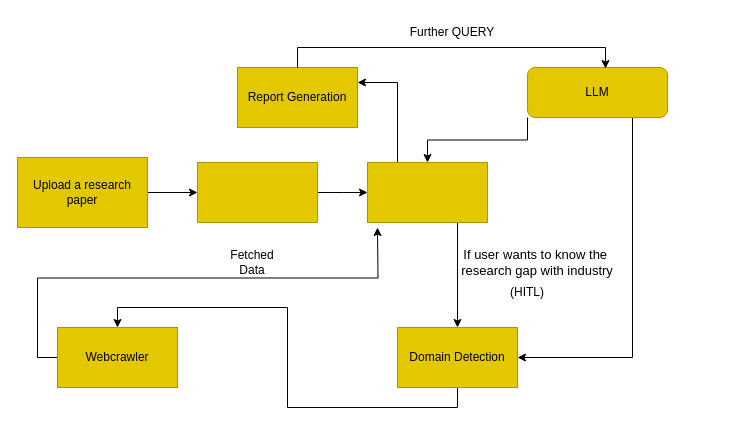
Image size: 745x433. Some labels were removed from this diagram. Each missing label, with the centre of its shape:
Paper analysis with reasoning: pixel 427 192
PDF parser: pixel 257 192
